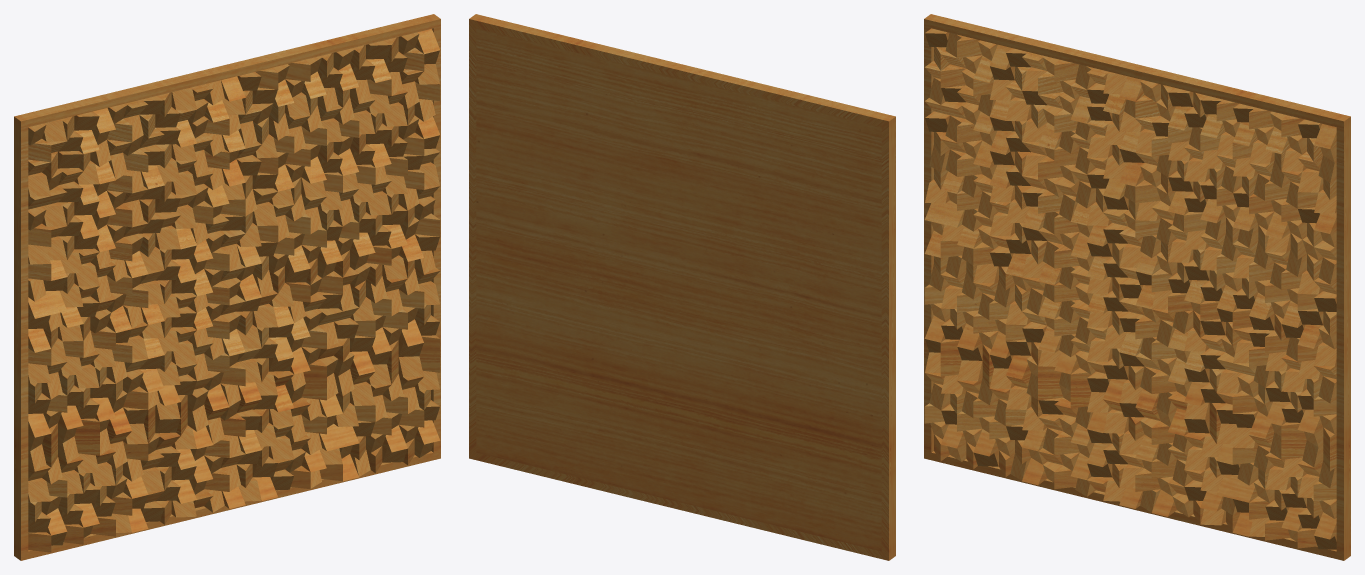
The model's file is wooden_soundproof_panel.glb.
3 views of the same model, side by side, from view 1: azimuth 30°, elevation 25°; view 2: azimuth 150°, elevation 25°; view 3: azimuth 330°, elevation 25° (orthographic).
Visible parts, largest first — view 1: rama.001; view 2: rama.001; view 3: rama.001.
Boxes of the visible parts, x1,y1,x2,y2 form: rama.001: (14, 14, 440, 560); rama.001: (469, 14, 895, 560); rama.001: (924, 14, 1350, 560).
Size of the model in its own units: 0.9151 by 0.9151 by 0.0512.
Materials: 1 (1 with a texture image).
